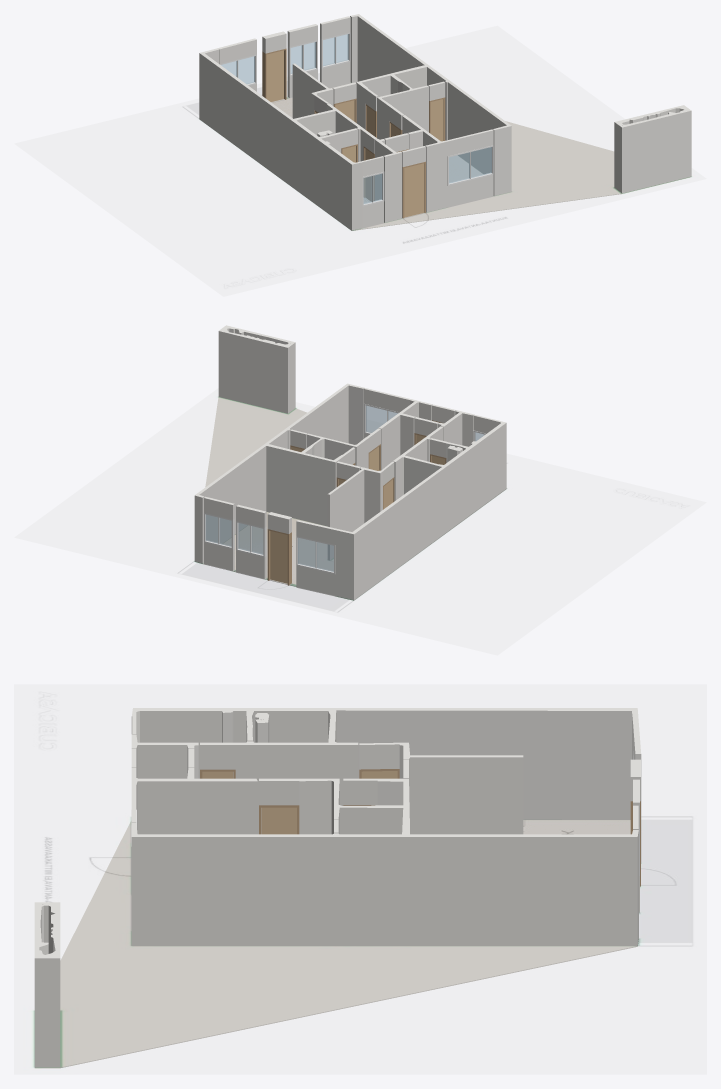
3 views of the same model, one above another, from view 1: azimuth 30°, elevation 25°; view 2: azimuth 150°, elevation 25°; view 3: azimuth 270°, elevation 25° (orthographic). The views are drawn at different scales.
Parts seen in each view (by area): view 1: plan_floor, wall-r007, wall-r006, floor-slab, wall-r001, wall-r003, wall-infill:window-004, wall-r002, wall-r005, wall-infill:window-003, window-004:glass, door-010:leaf (+10 smaller); view 2: plan_floor, wall-r007, wall-r006, wall-r001, floor-slab, wall-r005, wall-r003, wall-infill:window-001, wall-infill:window-002, wall-infill:window-003, window-001:glass, wall-r002 (+5 smaller); view 3: plan_floor, wall-r006, floor-slab, wall-r007, wall-r005, wall-r003, wall-r001, wall-r002, wall-infill:door-006, wall-infill:door-003, door-006:leaf, wall-infill:door-008 (+1 smaller).
Part boxes in pixels (x1,y1,x2,y2): plan_floor: [15, 26, 706, 296]; wall-r007: [199, 48, 366, 230]; wall-r006: [350, 14, 511, 195]; floor-slab: [199, 82, 690, 230]; wall-r001: [614, 105, 691, 193]; wall-r003: [402, 115, 447, 212]; wall-infill:window-004: [446, 129, 493, 207]; wall-r002: [375, 139, 402, 222]; wall-r005: [292, 63, 333, 118]; wall-infill:window-003: [320, 16, 350, 88]; window-004:glass: [449, 147, 491, 183]; door-010:leaf: [404, 163, 424, 217]; plan_floor: [14, 388, 706, 655]; wall-r007: [335, 420, 506, 600]; wall-r006: [194, 383, 368, 563]; wall-r001: [218, 325, 295, 413]; floor-slab: [196, 397, 505, 600]; wall-r005: [327, 467, 382, 560]; wall-r003: [378, 399, 432, 470]; wall-infill:window-001: [296, 520, 336, 596]; wall-infill:window-002: [236, 504, 266, 579]; wall-infill:window-003: [204, 496, 234, 570]; window-001:glass: [298, 538, 333, 571]; wall-r002: [438, 410, 474, 446]; plan_floor: [14, 684, 706, 1074]; wall-r006: [131, 778, 638, 945]; floor-slab: [35, 820, 637, 1068]; wall-r007: [131, 708, 638, 834]; wall-r005: [399, 742, 523, 834]; wall-r003: [131, 768, 257, 834]; wall-r001: [34, 902, 60, 1067]; wall-r002: [131, 734, 198, 778]; wall-infill:door-006: [259, 778, 299, 805]; wall-infill:door-003: [359, 742, 399, 769]; door-006:leaf: [261, 807, 296, 834]; wall-infill:door-008: [200, 742, 235, 769].
Bounding box in the file's own units: 20.57 × 2.7 × 15.43.
14 materials, 1 textured.
